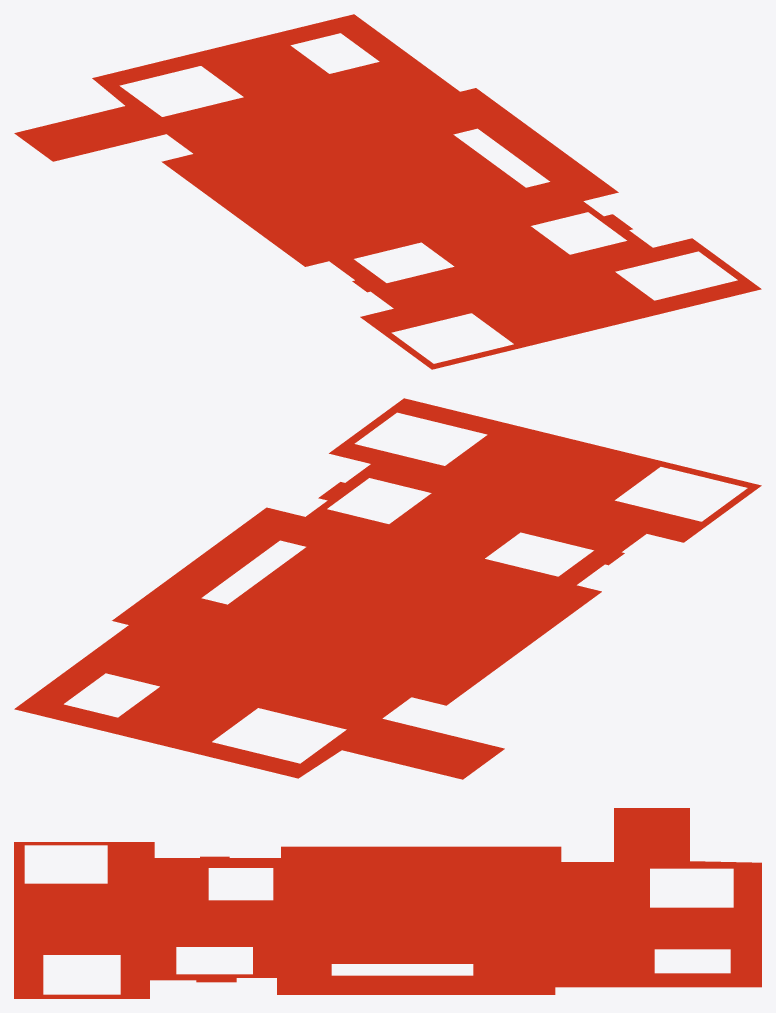
File: Ingenium_Lab_NavMesh.glb
3 renders of one model, top to bottom at view 1: azimuth 30°, elevation 25°; view 2: azimuth 150°, elevation 25°; view 3: azimuth 270°, elevation 25°, orthographic. The views are drawn at different scales.
Visible parts, largest first — view 1: Floor.001; view 2: Floor.001; view 3: Floor.001.
Boxes of the visible parts, left/top/right/bottom form: Floor.001: left=14, top=14, right=761, bottom=369; Floor.001: left=14, top=398, right=761, bottom=779; Floor.001: left=14, top=808, right=761, bottom=998.
Bounding box in the file's own units: 12.15 × 0 × 20.13.
